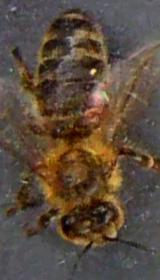varroa_mite: (80, 86, 120, 133)
